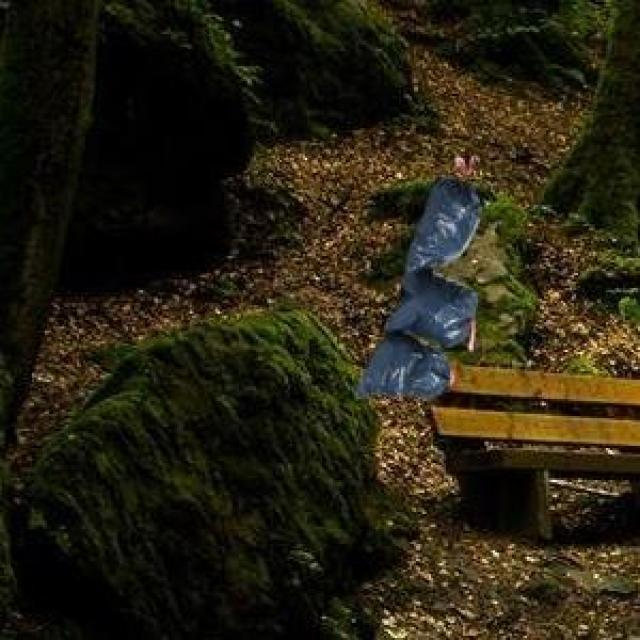miscellaneous trash: (352, 173, 476, 395)
